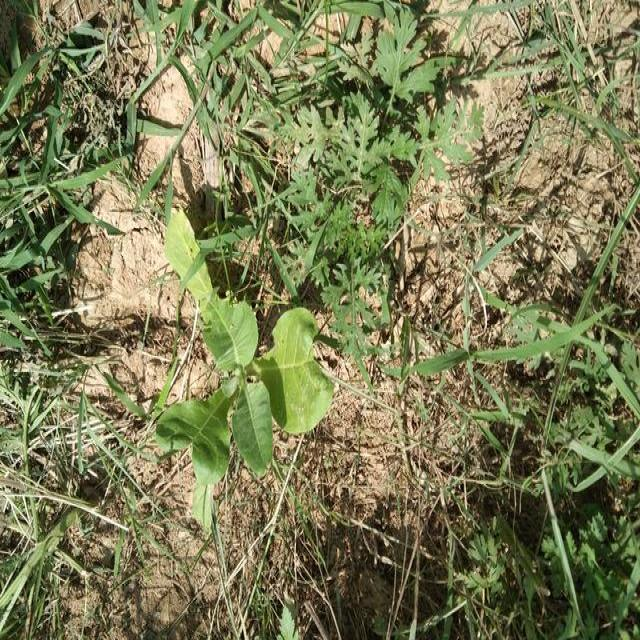crop: (154, 225, 332, 528)
